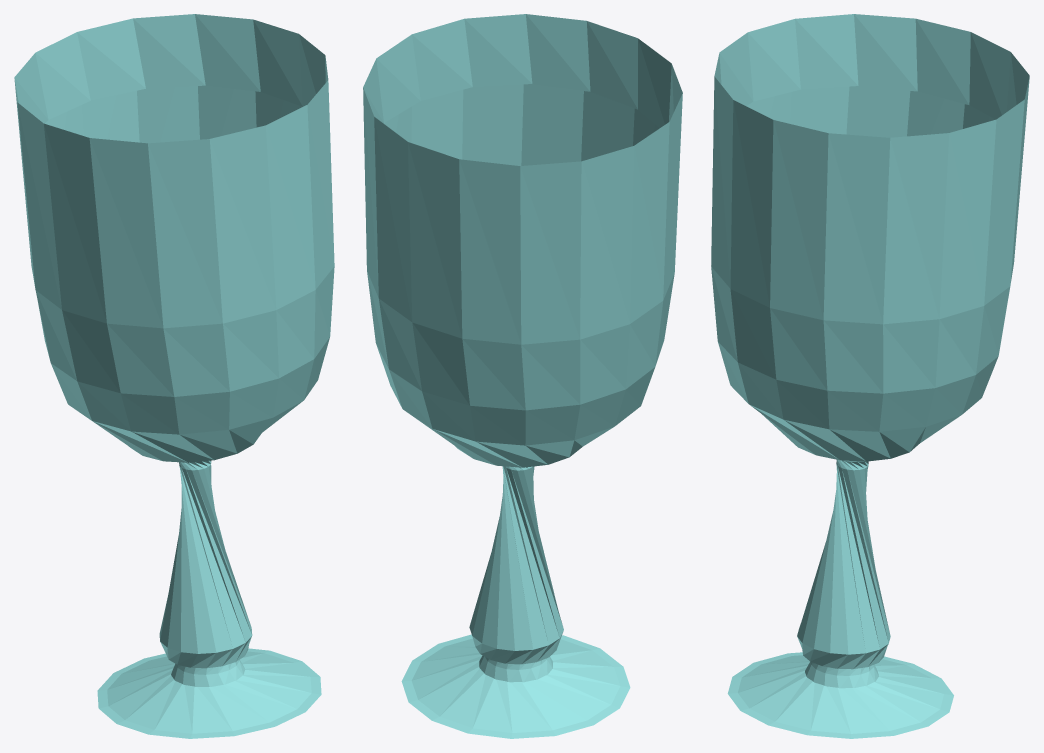
Rendered from glass_(drink_container)_1.glb.
3 views of the same model, side by side, from view 1: azimuth 30°, elevation 25°; view 2: azimuth 150°, elevation 25°; view 3: azimuth 270°, elevation 25° (orthographic).
Parts seen in each view (by area): view 1: Cube.001_0; view 2: Cube.001_0; view 3: Cube.001_0.
Boxes of the visible parts, bbox=[...] form: Cube.001_0: bbox=[14, 14, 334, 738]; Cube.001_0: bbox=[363, 14, 682, 738]; Cube.001_0: bbox=[711, 14, 1029, 738].
Bounding box in the file's own units: 0.1793 × 0.388 × 0.1801.
